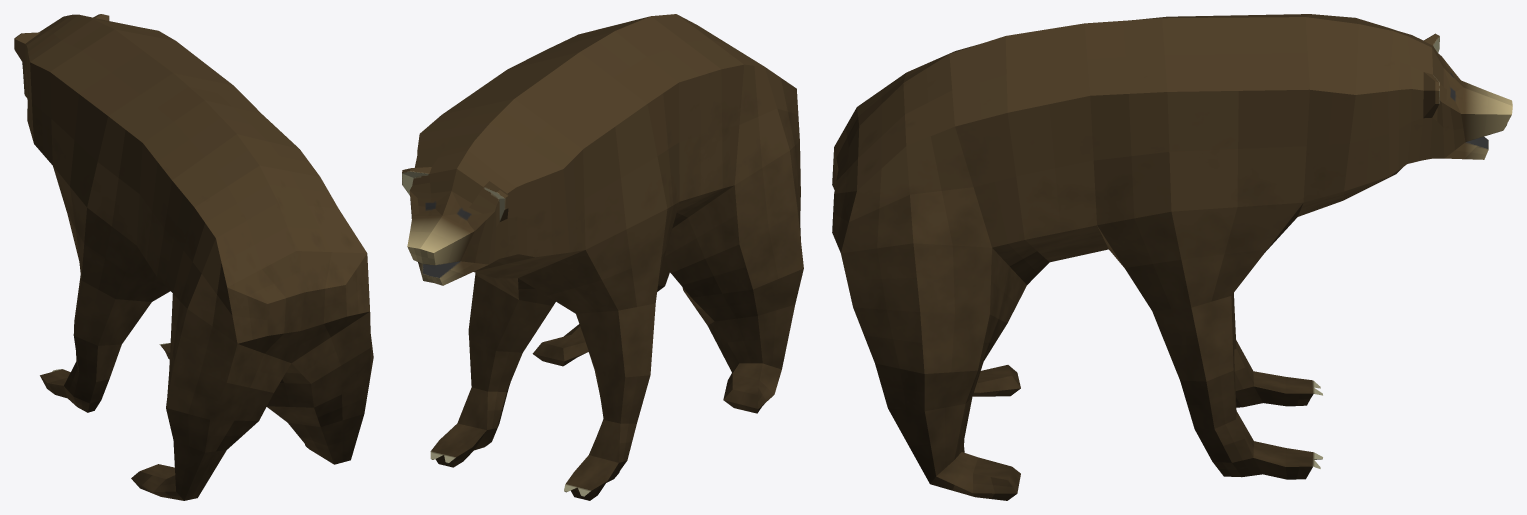
File: Bear.fbx
3 renders of one model, left to right at view 1: azimuth 30°, elevation 25°; view 2: azimuth 150°, elevation 25°; view 3: azimuth 270°, elevation 25°, orthographic. The views are drawn at different scales.
Visible parts, largest first — view 1: Bear; view 2: Bear; view 3: Bear.
Boxes of the visible parts, box(x1,y1,x2,y2) form: Bear: box(14, 14, 373, 500); Bear: box(402, 14, 803, 500); Bear: box(832, 14, 1512, 500).
Bounding box in the file's own units: 290 × 464 × 669.
3 materials, 3 textured.
